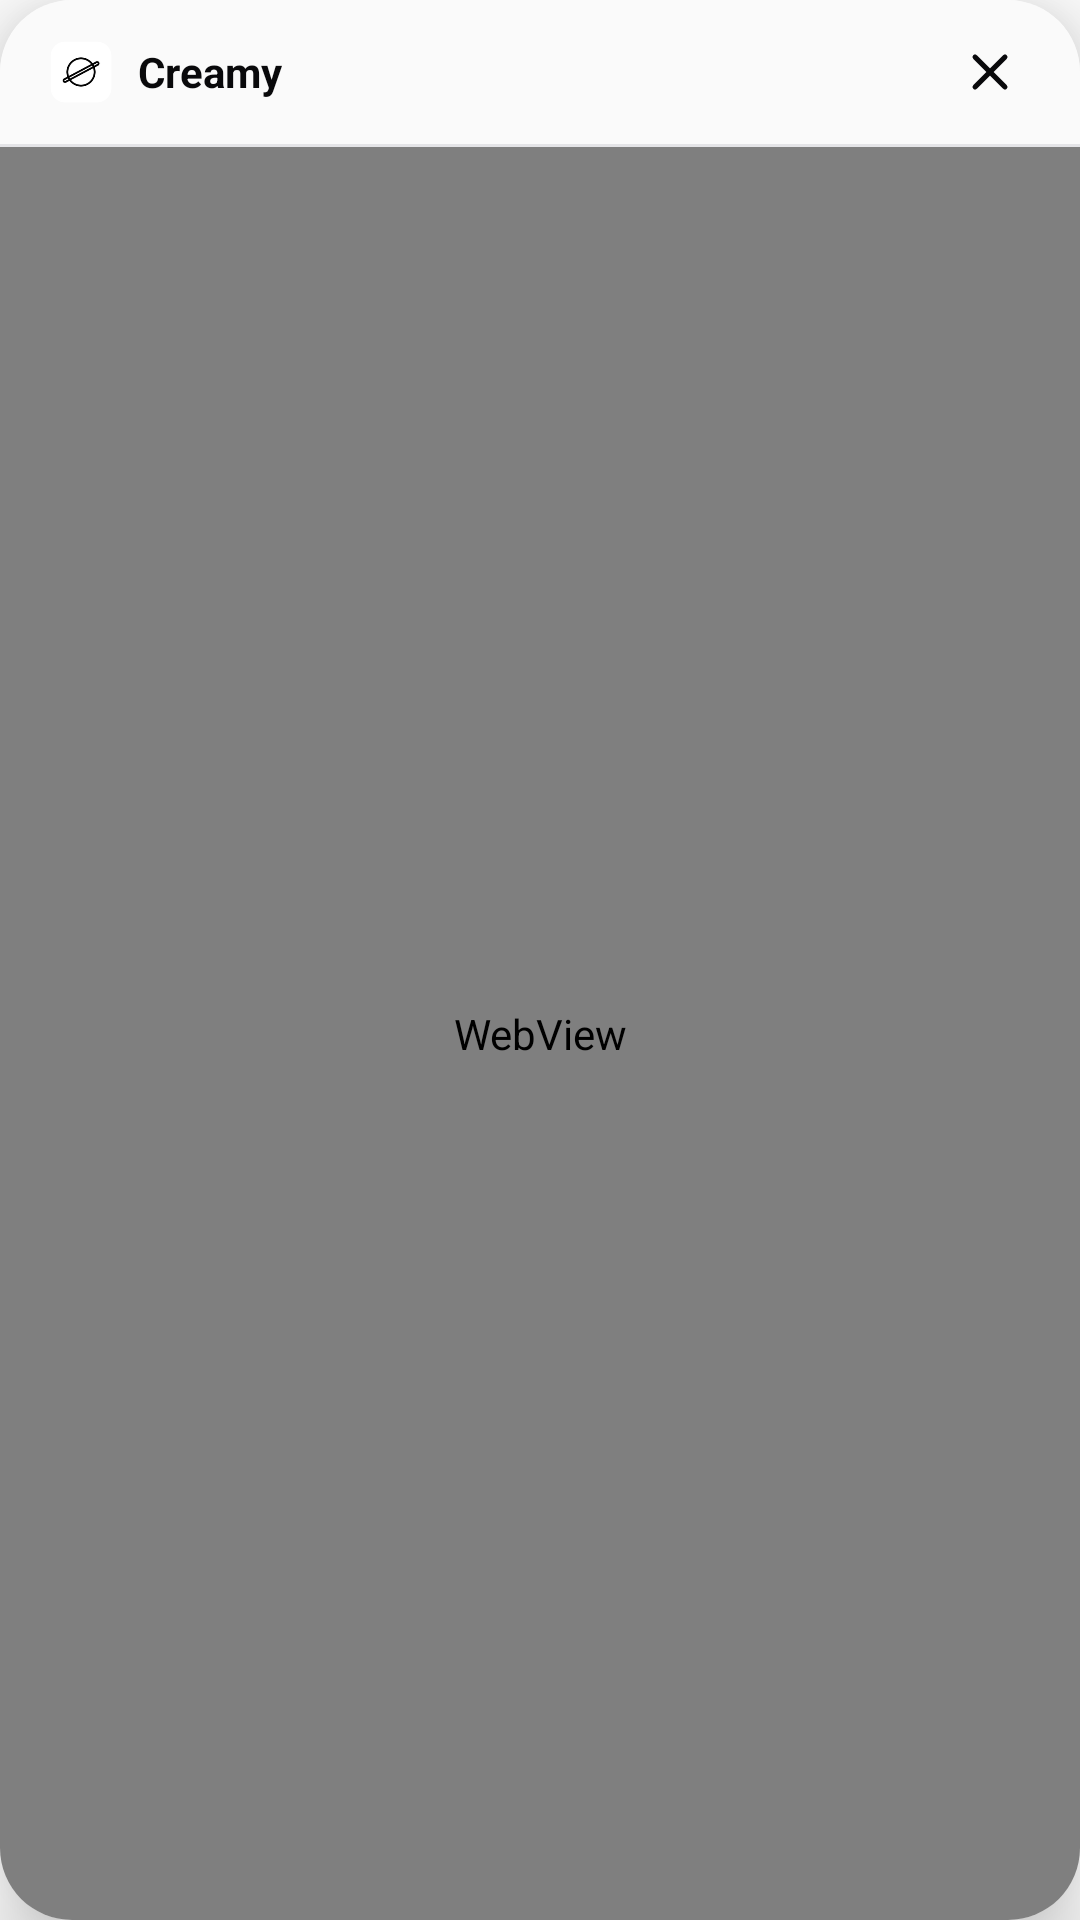

Named icons in this screenshot (1080 x 1920) and their bounding boxes, rect(x1, y1, x2, y2):
Close: rect(972, 54, 1008, 90)
